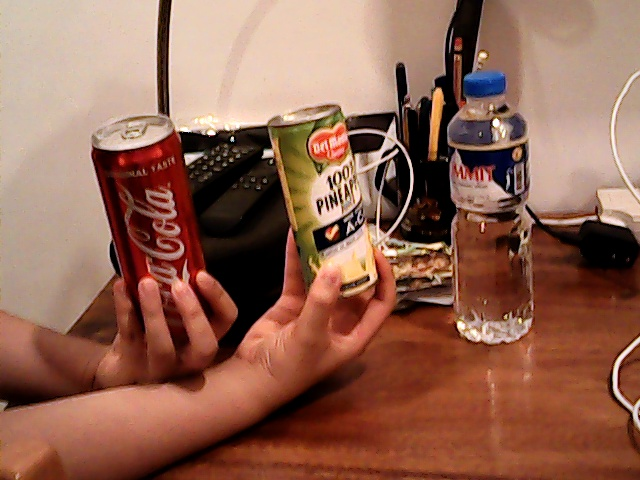Cola: (89, 123, 204, 300)
Pine Juice: (263, 94, 388, 297)
Summit Water: (435, 62, 543, 347)
